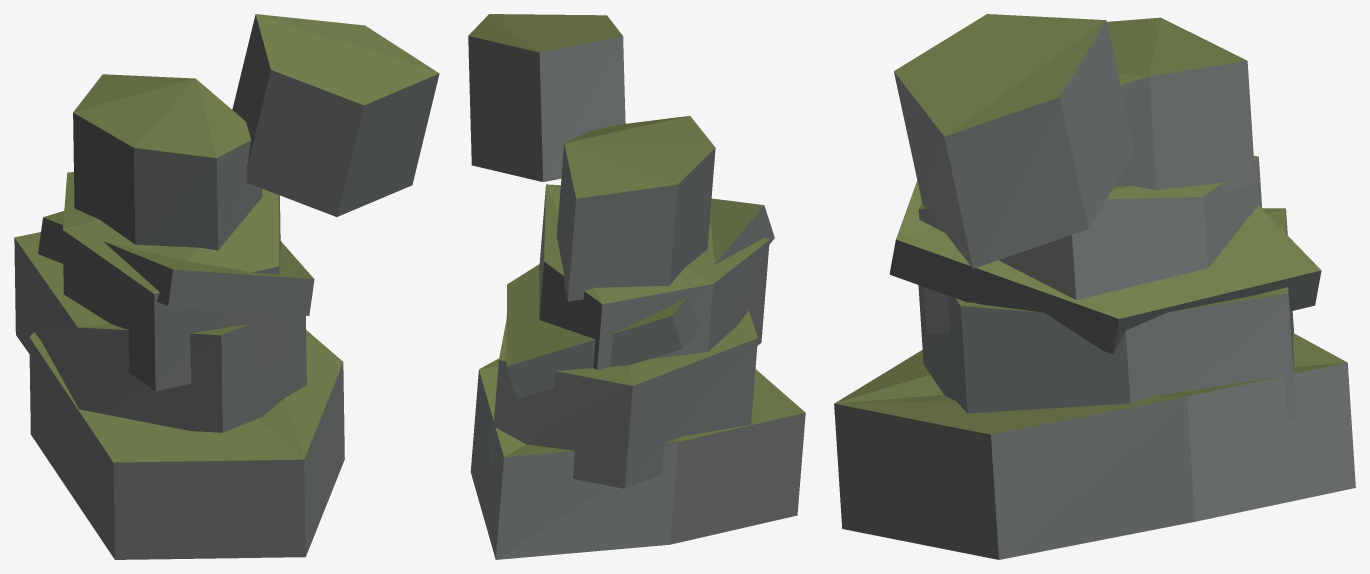
The model's file is rock.block__stacked__summer.glb.
The picture shows the model from 3 angles, left to right: view 1: azimuth 30°, elevation 25°; view 2: azimuth 150°, elevation 25°; view 3: azimuth 270°, elevation 25°; orthographic projection. The views are drawn at different scales.
Visible parts, largest first — view 1: rock.block; view 2: rock.block; view 3: rock.block.
Boxes of the visible parts, x1,y1,x2,y2 form: rock.block: (14,14,439,559); rock.block: (468,14,805,559); rock.block: (834,14,1355,559).
Bounding box in the file's own units: 1.68 × 2.27 × 1.95.
